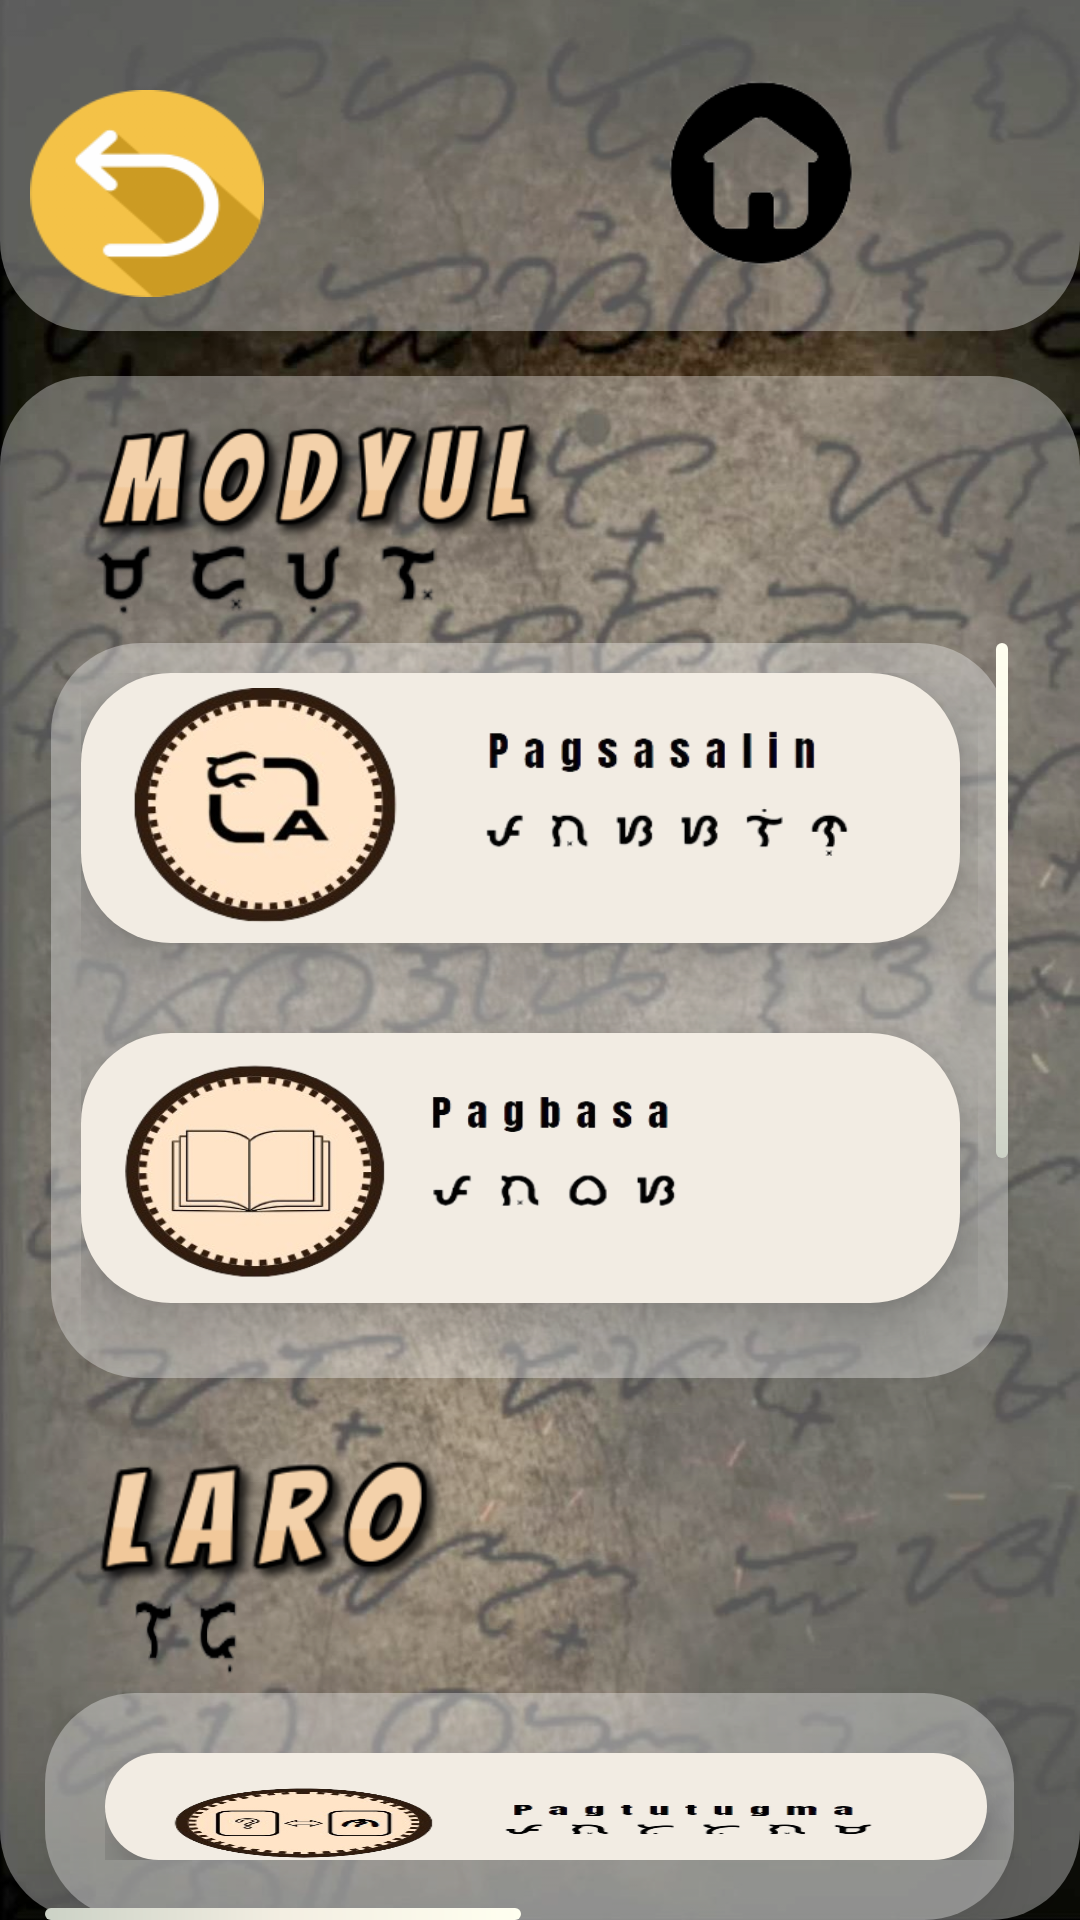

Named icons in this screenshot (1080*1920) and their centers, [x,y]:
undo: [147,193]
